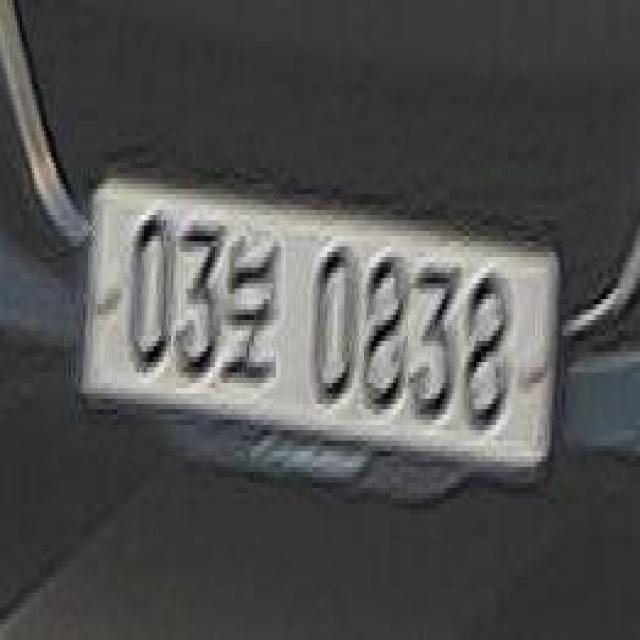illegal_plate: (79, 164, 560, 517)
